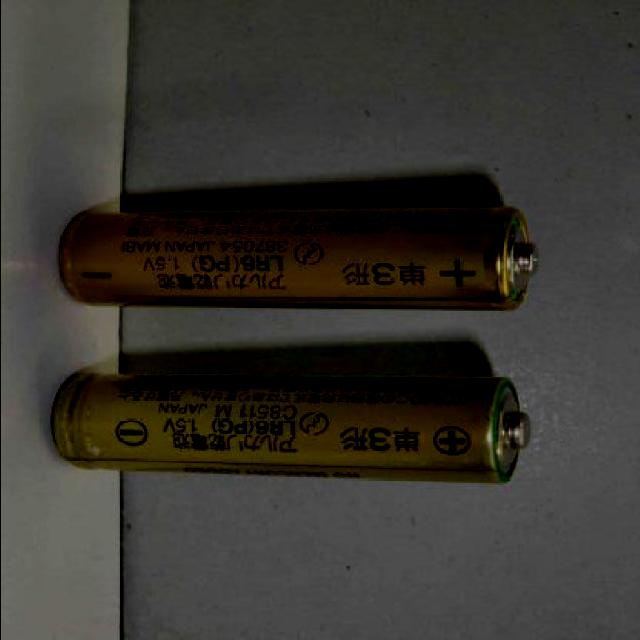AA: (43, 372, 534, 486), (55, 202, 548, 312)
